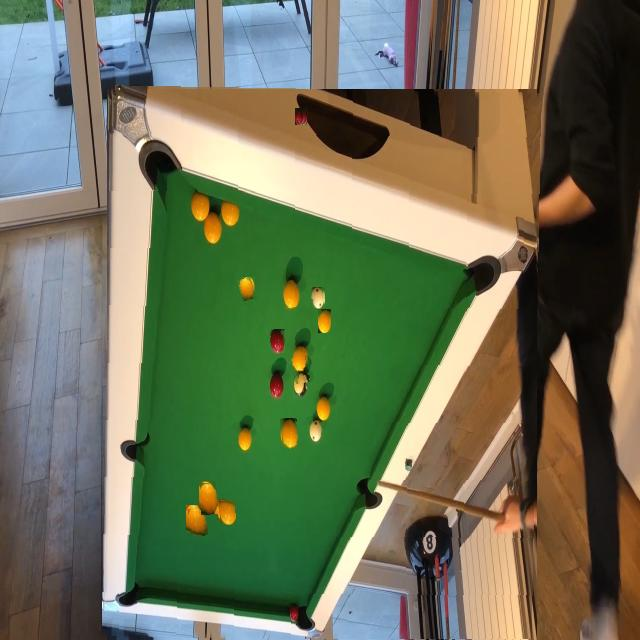Ball: (201, 483, 219, 515), (188, 507, 207, 536), (281, 419, 299, 449), (292, 357, 309, 384), (239, 277, 255, 301), (270, 330, 286, 354), (220, 501, 236, 525), (294, 332, 310, 356), (318, 309, 331, 333), (312, 287, 324, 309), (295, 108, 303, 125)
Billiard table: (104, 87, 539, 640)
